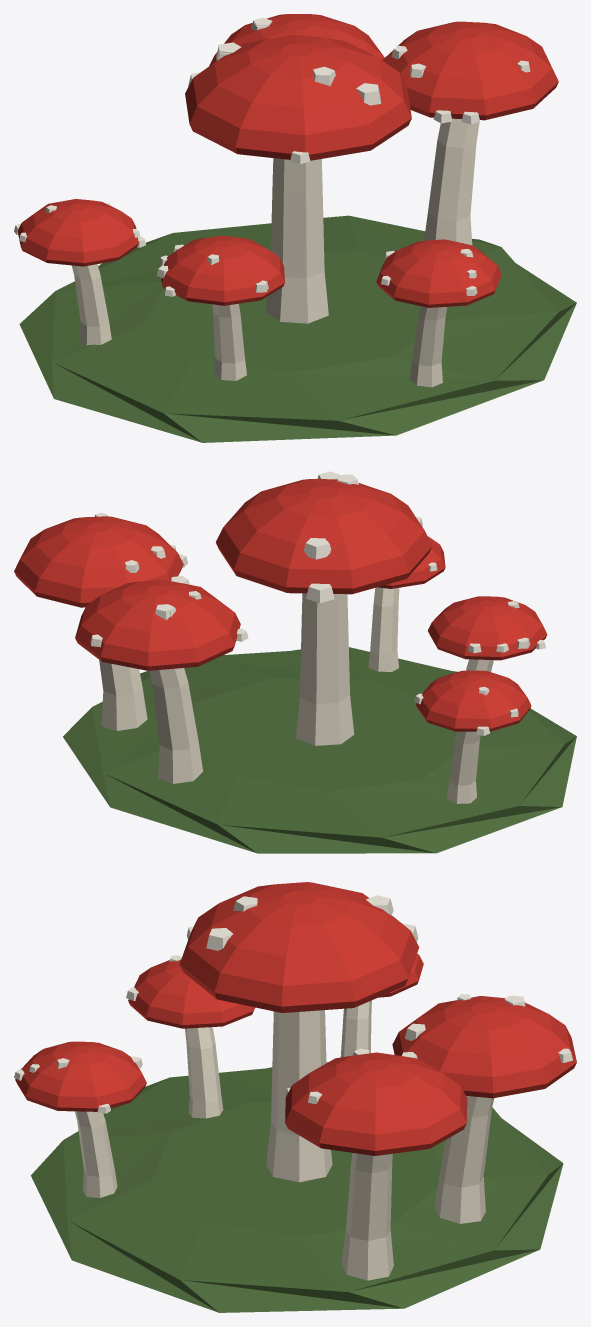
Rendered from asset.glb.
3 views of the same model, one above another, from view 1: azimuth 30°, elevation 25°; view 2: azimuth 150°, elevation 25°; view 3: azimuth 270°, elevation 25° (orthographic). The views are drawn at different scales.
Parts seen in each view (by area): view 1: ground, cap, stem, spots; view 2: ground, cap, stem, spots; view 3: ground, cap, stem, spots.
Boxes of the visible parts, x1,y1,x2,y2 form: ground: [19, 215, 576, 442]; cap: [17, 14, 558, 307]; stem: [71, 118, 479, 387]; spots: [14, 17, 530, 296]; ground: [63, 647, 576, 853]; cap: [14, 479, 547, 731]; stem: [99, 587, 493, 803]; spots: [90, 471, 545, 735]; ground: [31, 1062, 563, 1312]; cap: [15, 882, 576, 1155]; stem: [75, 1000, 494, 1280]; spots: [14, 895, 572, 1113].
Bounding box in the file's own units: 0.6944 × 0.35 × 0.608.
